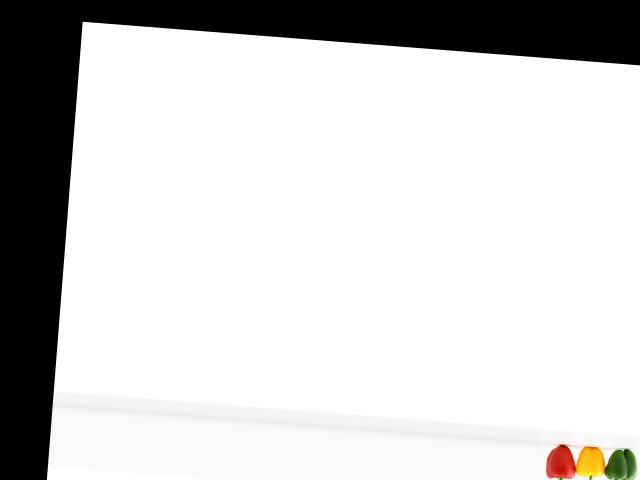bell_pepper: (535, 438, 581, 480)
